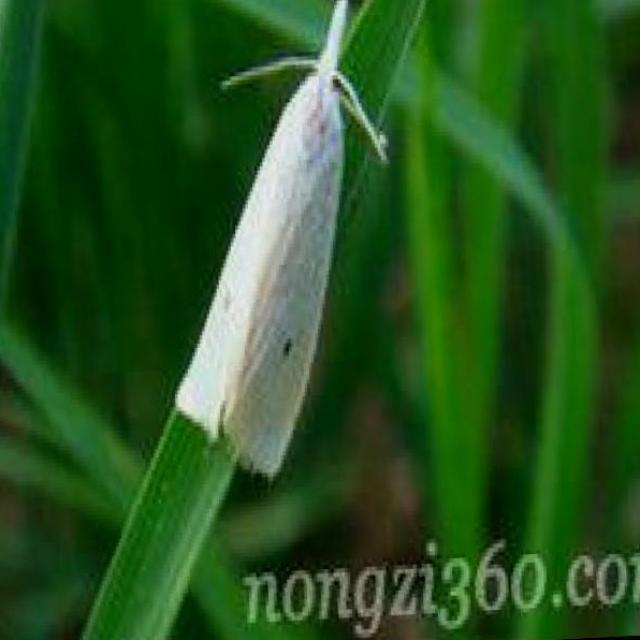stem borer: (175, 0, 386, 475)
